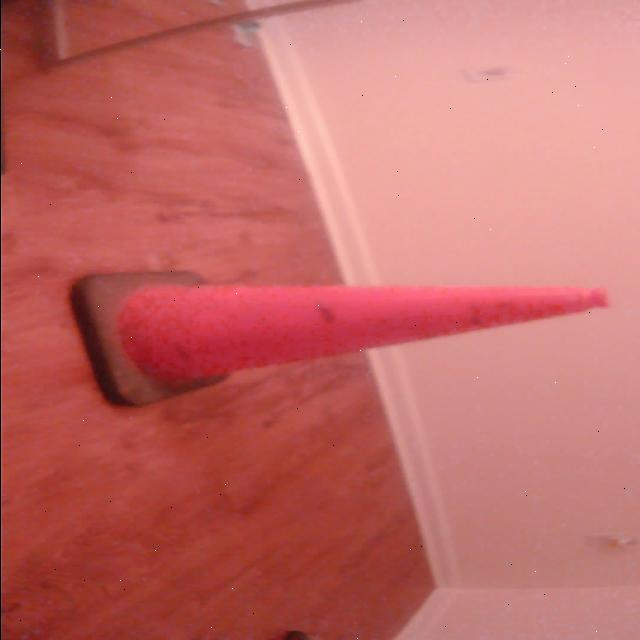traffic cone: (65, 265, 618, 413)
